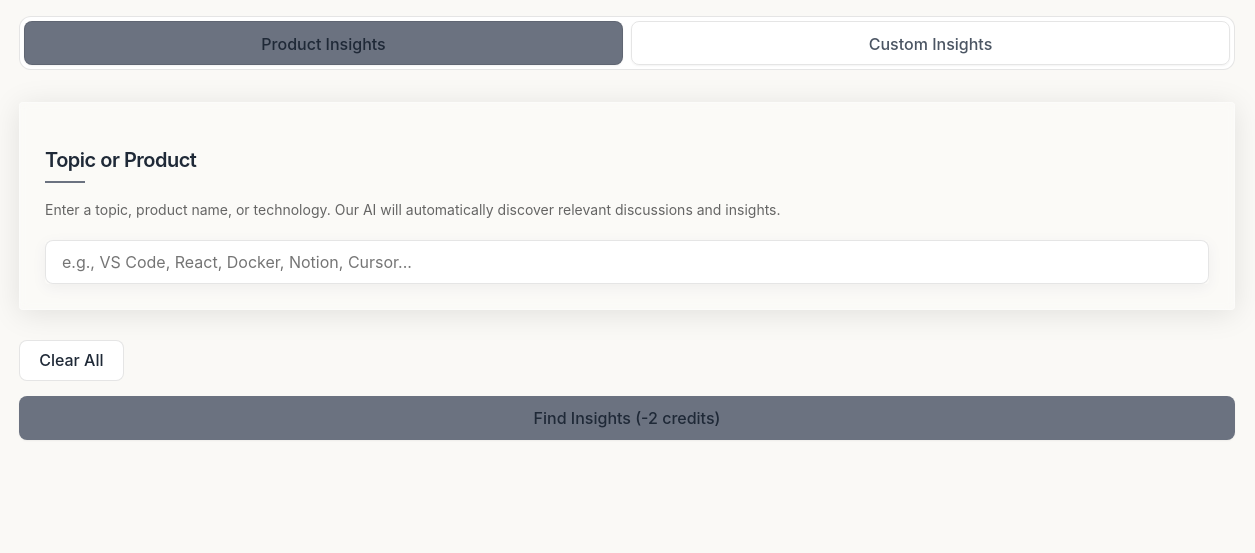
Test: ScrapePage › Toggle Functionality › switches between product and custom modes
Check: the field with placeholder "e.g., VS Code, React, Docker, Notion, Cursor..." is shown, box [45,240,1209,284]
Note: Switch to custom
Click the button "Custom Insights" at coordinates (930, 43), box [631,21,1230,65]
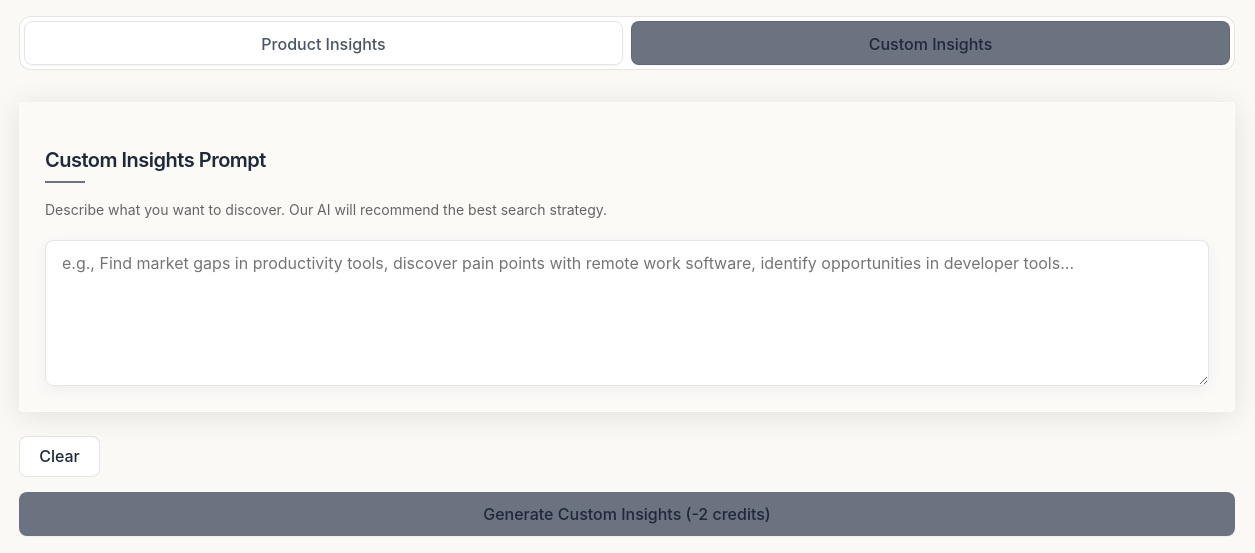
Check: the heading "Custom Insights Prompt" is shown, box [45,145,266,175]
Note: Switch back to product
Click the button "Product Insights" at coordinates (324, 43), box [24,21,623,65]
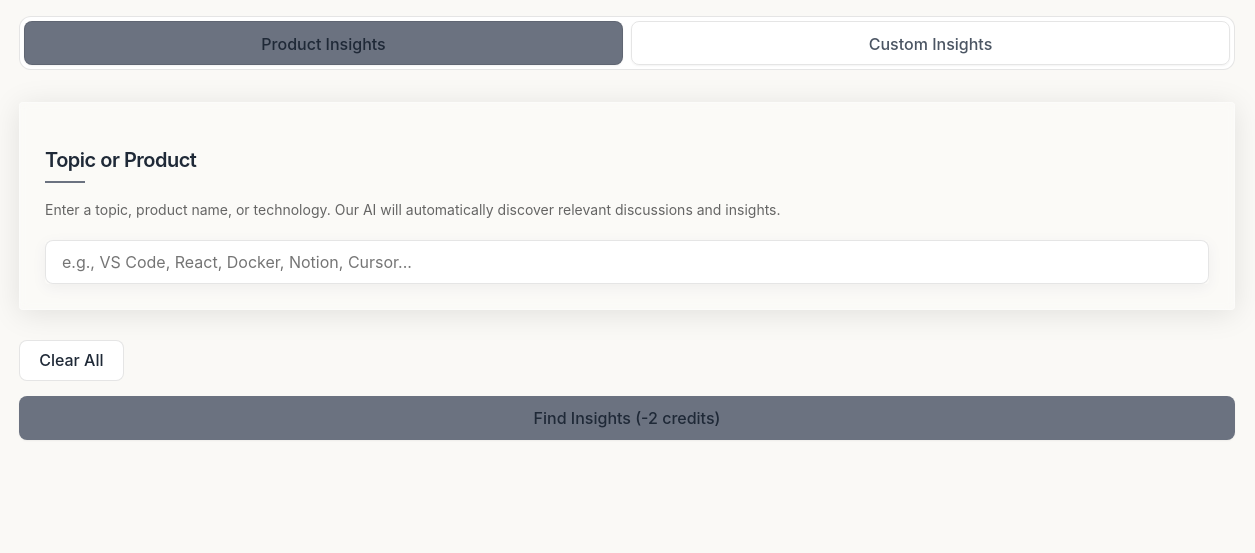
Check: the heading "Topic or Product" is shown, box [45,145,196,175]
